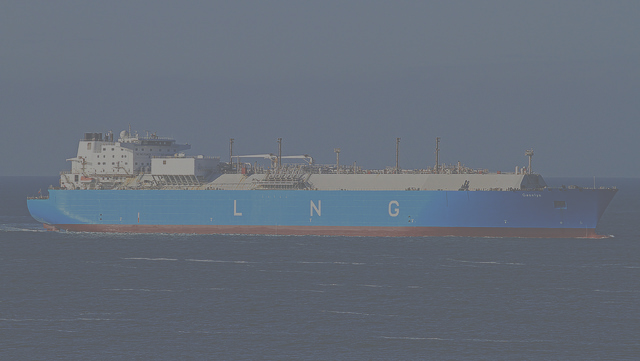LNG_ship: (19, 121, 617, 243)
